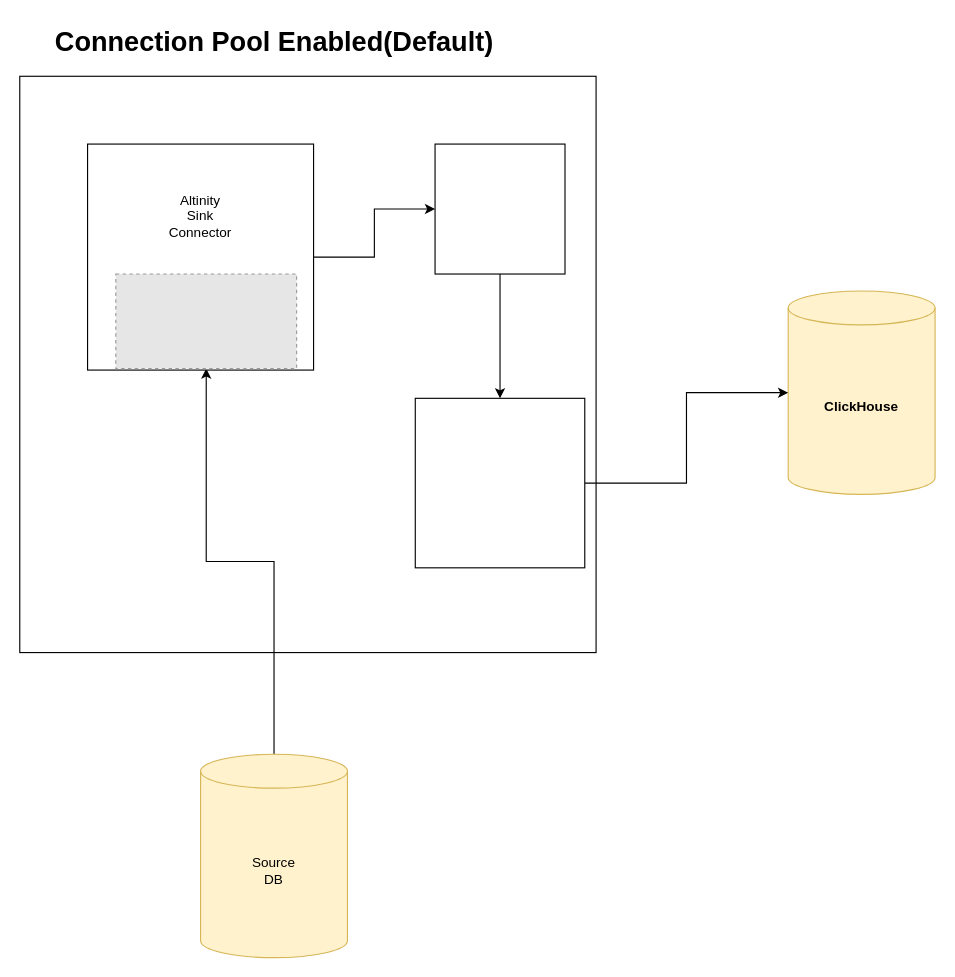
Image size: 955x977. Some labels were removed from this diagram. Grey dashed boxes stand in for pictures. The shapes that lost their labels are listed below. From the top down, each one's centre as x and y in pixels, then its label:
the point at 499,208: Hikari Connection Pool
the point at 499,482: ClickHouse JDBC (Connection Pool disabled)
